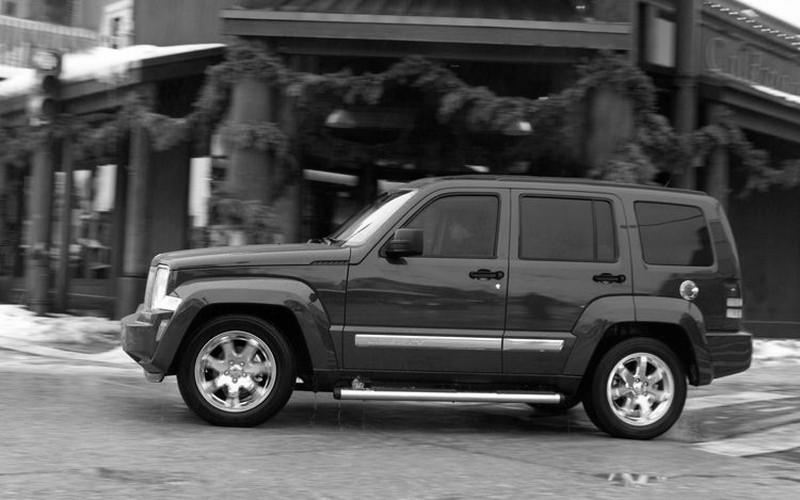car: (116, 170, 757, 445)
